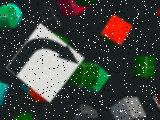Right: (6, 23, 84, 103)
